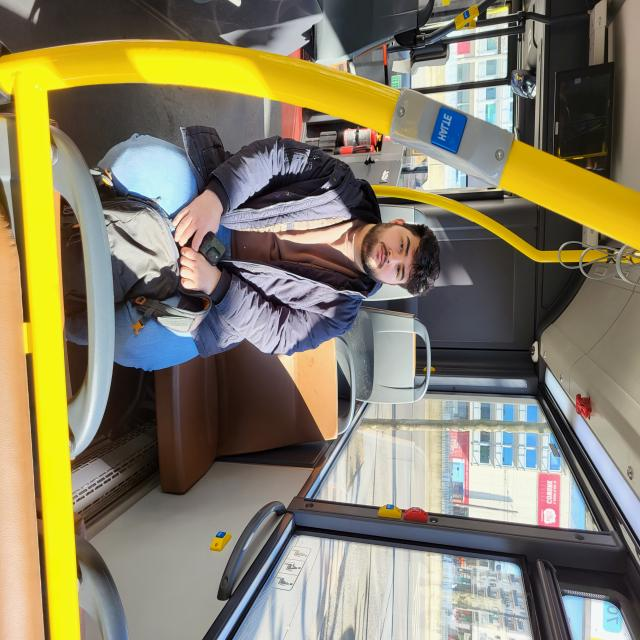asiento-libre: (398, 372, 532, 640), (160, 272, 211, 428), (393, 277, 464, 367)
